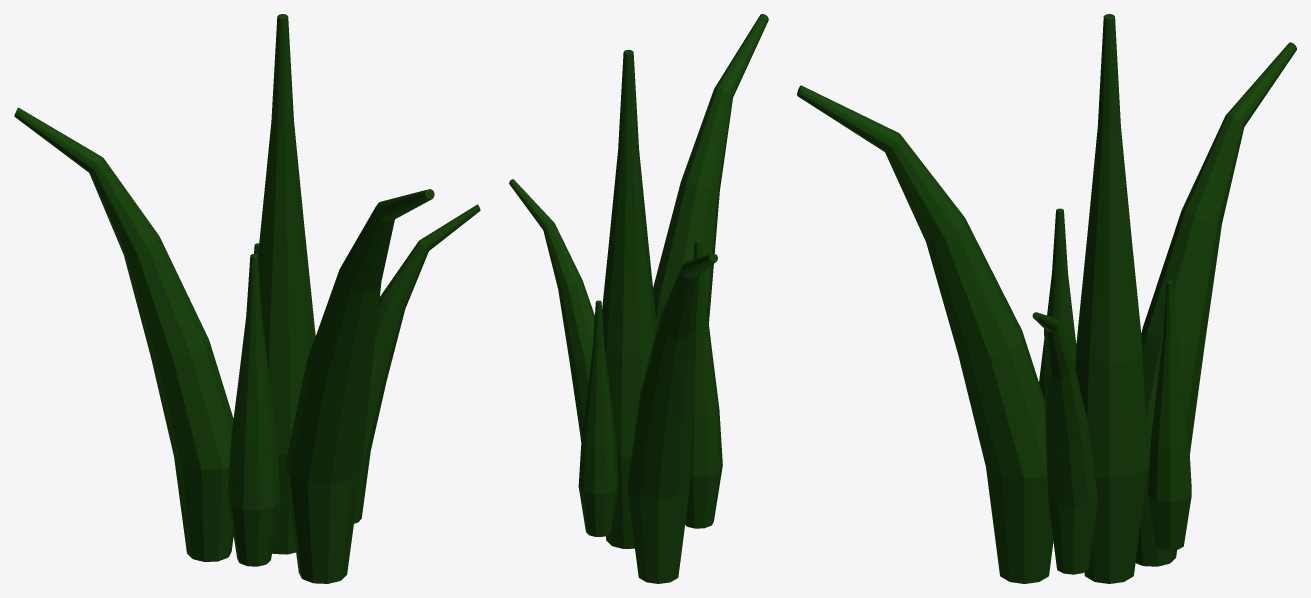
The model's file is grass.obj.
3 views of the same model, side by side, from view 1: azimuth 30°, elevation 25°; view 2: azimuth 150°, elevation 25°; view 3: azimuth 270°, elevation 25° (orthographic). The views are drawn at different scales.
Parts seen in each view (by area): view 1: grass1 grass, grass grass3, grass grass, grass grass2, grass grass5; view 2: grass grass3, grass grass, grass1 grass, grass grass4, grass grass2, grass grass5; view 3: grass1 grass, grass grass, grass grass3, grass grass5, grass grass4, grass grass2.
Boxes of the visible parts, x1,y1,x2,y2 form: grass1 grass: [285, 189, 434, 583]; grass grass3: [14, 107, 233, 561]; grass grass: [258, 14, 315, 554]; grass grass2: [227, 254, 280, 566]; grass grass5: [354, 204, 480, 523]; grass grass3: [627, 253, 717, 583]; grass grass: [602, 49, 657, 548]; grass1 grass: [653, 14, 768, 327]; grass grass4: [578, 300, 618, 536]; grass grass2: [685, 239, 722, 528]; grass grass5: [509, 179, 594, 441]; grass1 grass: [797, 85, 1053, 583]; grass grass: [1075, 14, 1147, 583]; grass grass3: [1135, 42, 1296, 566]; grass grass5: [1032, 312, 1097, 574]; grass grass4: [1148, 280, 1191, 550]; grass grass2: [1039, 208, 1076, 400].
Size of the model in its own units: 0.2098 by 0.3133 by 0.2496.
